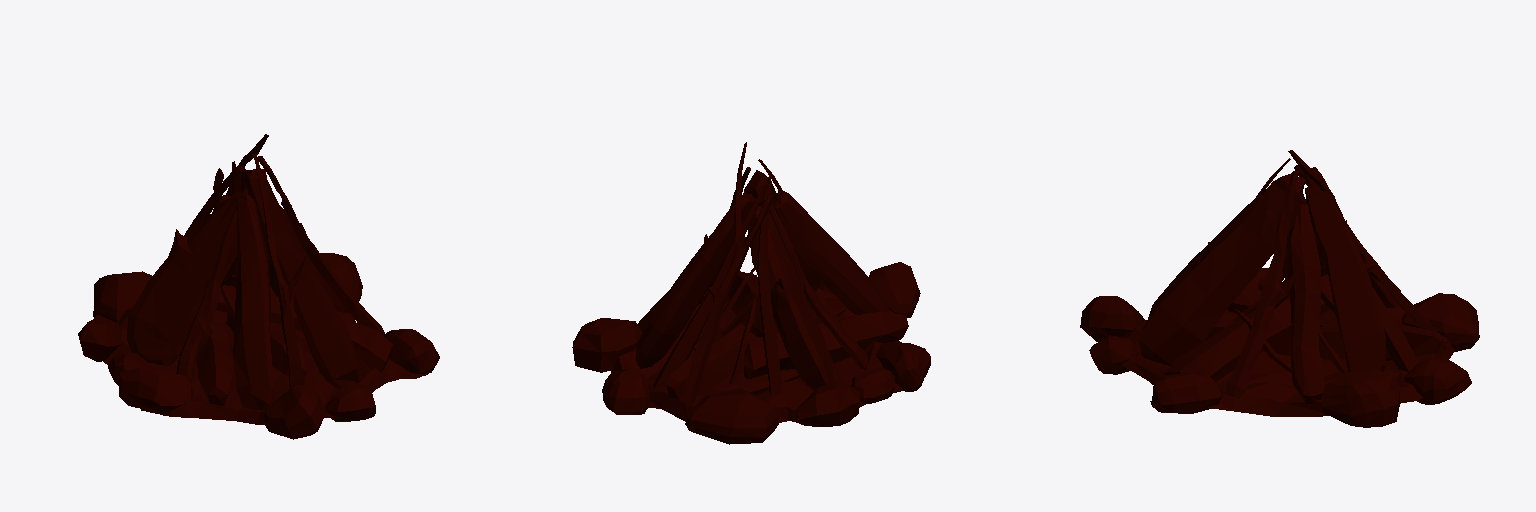
Rendered from campfire.obj.
3 views of the same model, side by side, from view 1: azimuth 30°, elevation 25°; view 2: azimuth 150°, elevation 25°; view 3: azimuth 270°, elevation 25° (orthographic).
Parts seen in each view (by area): view 1: Campfire_Mesh; view 2: Campfire_Mesh; view 3: Campfire_Mesh.
Part boxes in pixels (x1,y1,x2,y2): Campfire_Mesh: (78,134,439,439); Campfire_Mesh: (572,142,930,444); Campfire_Mesh: (1080,150,1479,427).
Bounding box in the file's own units: 886 × 668 × 1060.